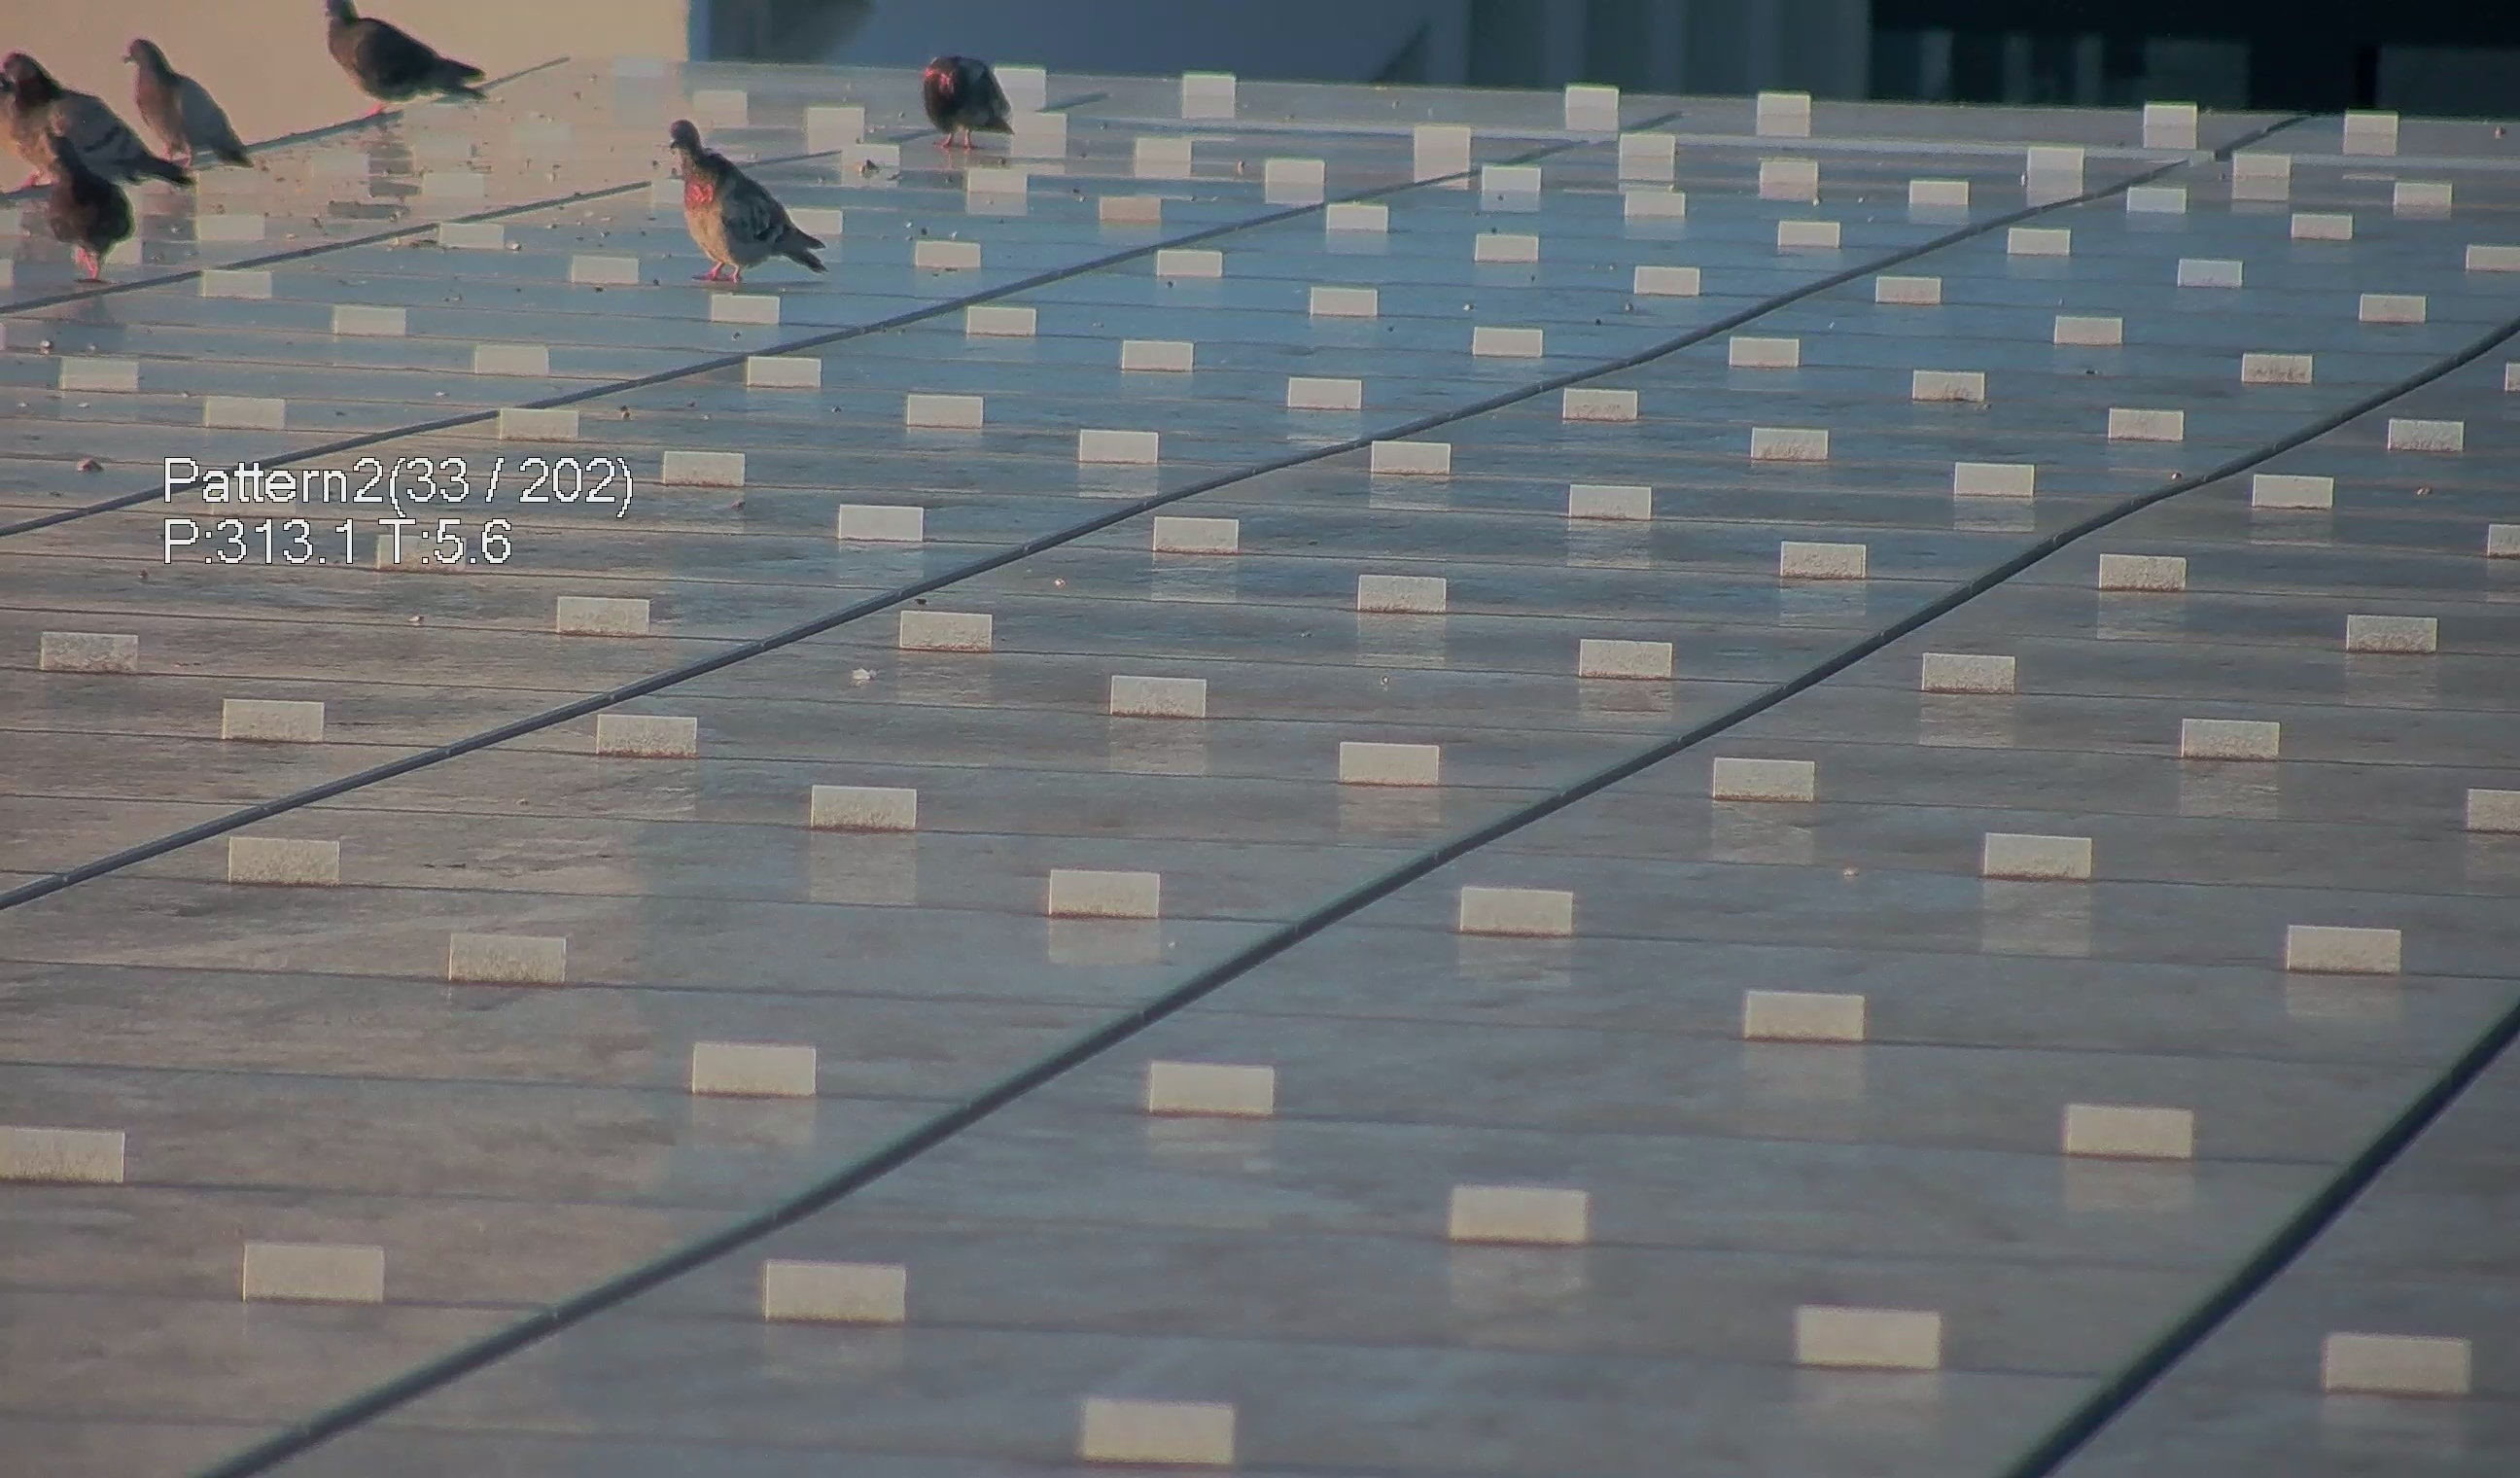Pigeon: (644, 109, 834, 292), (2, 30, 181, 197), (9, 128, 197, 278), (109, 18, 262, 171), (297, 2, 489, 109), (902, 40, 1023, 155)
